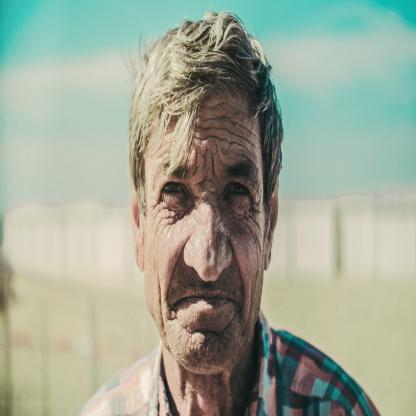Eye: (221, 181, 257, 216), (157, 181, 192, 210)
Mouth: (169, 288, 238, 315)
Nose: (184, 196, 233, 283)
